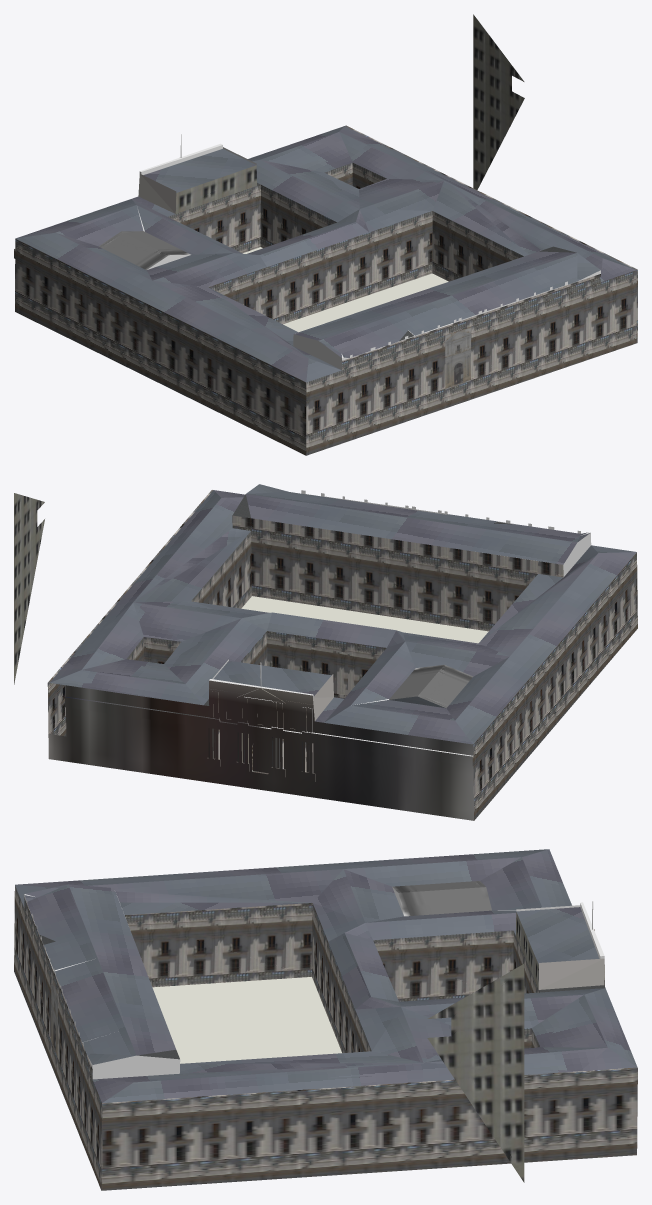
The model's file is la_moneda.glb.
3 views of the same model, one above another, from view 1: azimuth 30°, elevation 25°; view 2: azimuth 150°, elevation 25°; view 3: azimuth 270°, elevation 25° (orthographic). The views are drawn at different scales.
Visible parts, largest first — view 1: la_moneda; view 2: la_moneda; view 3: la_moneda.
Part boxes in pixels (x1,y1,x2,y2): la_moneda: (14,14,637,455); la_moneda: (14,484,637,820); la_moneda: (14,849,637,1190).
Size of the model in its own units: 126 by 52.42 by 124.
Materials: 60 (49 with a texture image).
